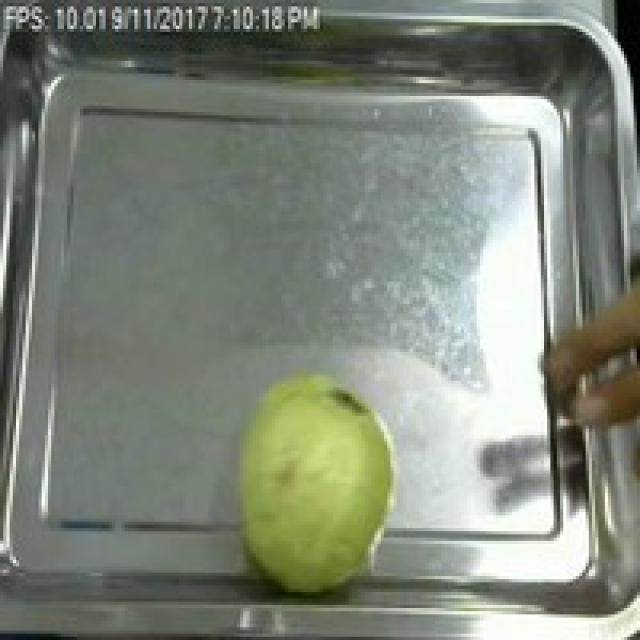Fruit: (214, 362, 413, 602)
